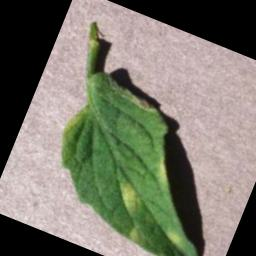Leaf_Mold: (107, 175, 149, 218), (146, 152, 178, 191), (124, 222, 149, 247), (160, 227, 185, 250)
